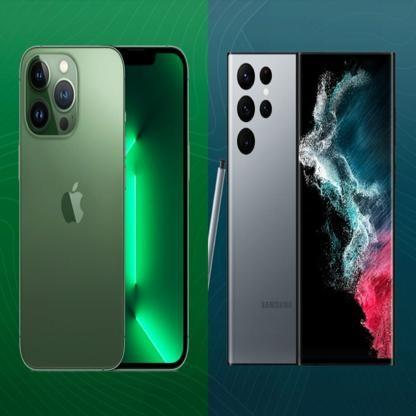not trash: (17, 43, 187, 369), (225, 50, 396, 368)
